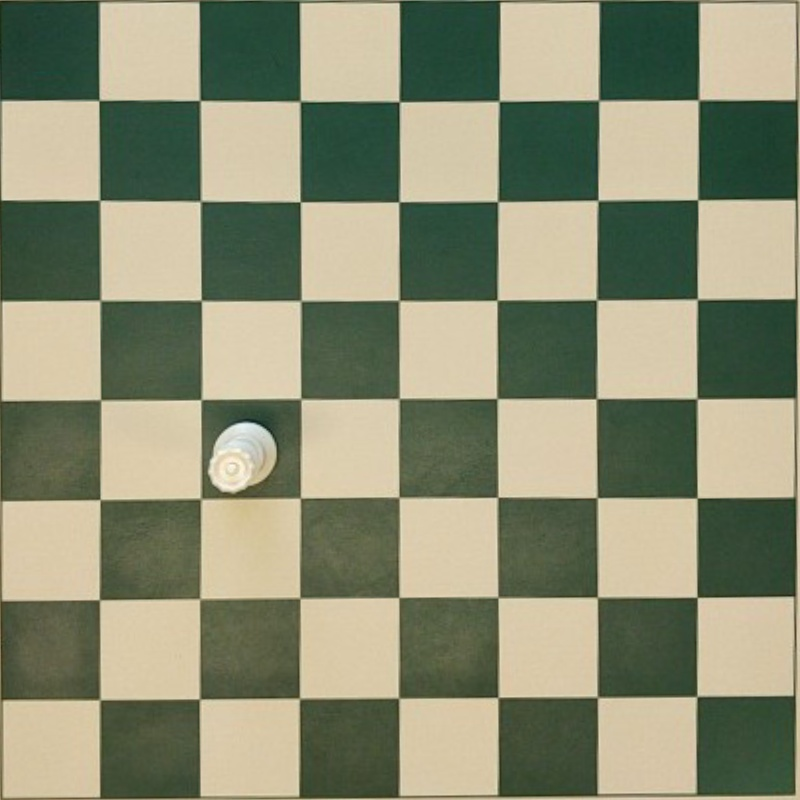white-queen: (207, 421, 277, 495)
